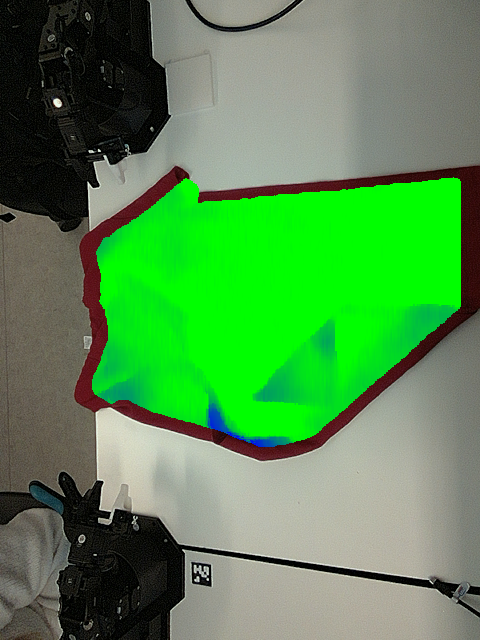V: (311, 373, 346, 408)
